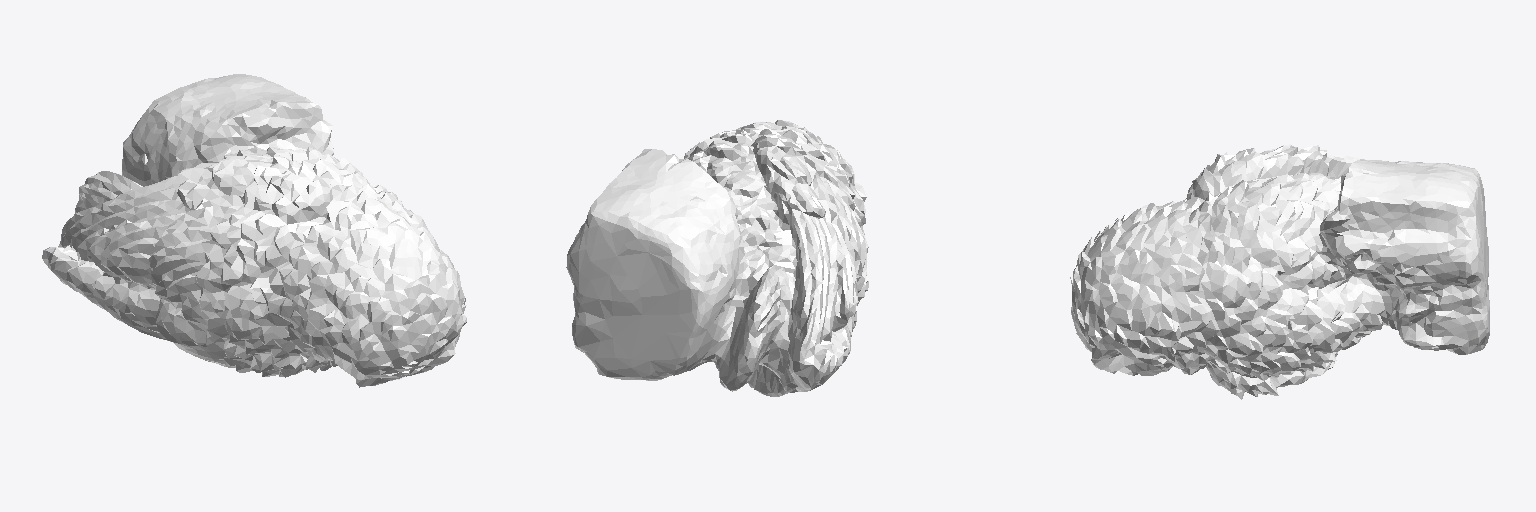
Rendered from owl.obj.
3 views of the same model, side by side, from view 1: azimuth 30°, elevation 25°; view 2: azimuth 150°, elevation 25°; view 3: azimuth 270°, elevation 25° (orthographic).
Size of the model in its own units: 2.7 by 2.14 by 3.6.